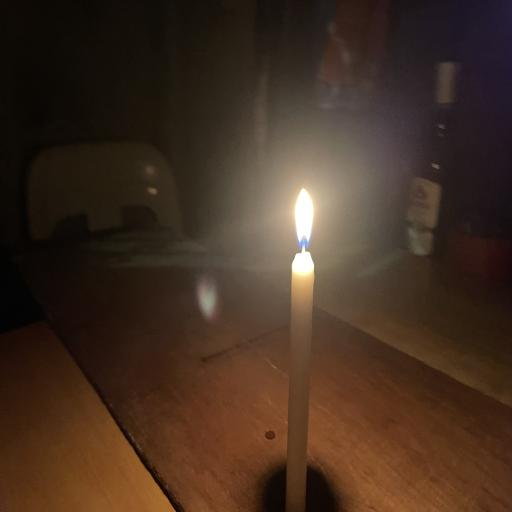fire: (264, 165, 343, 289)
